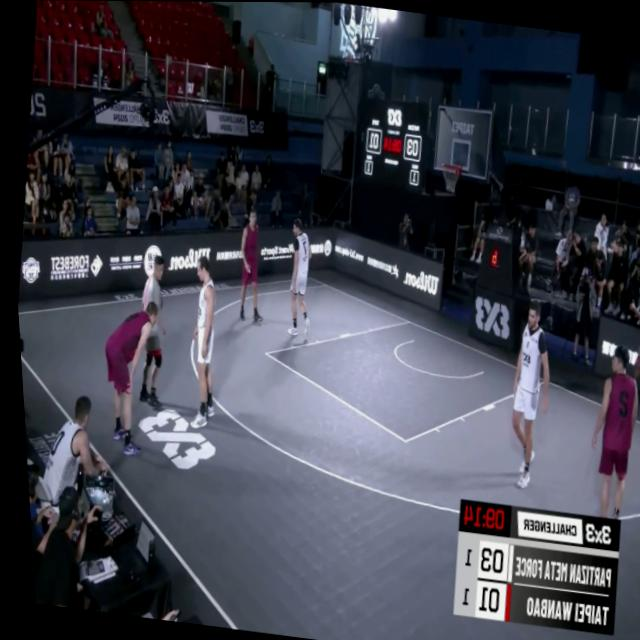ball: (151, 282, 164, 310)
hoop: (435, 157, 461, 200)
player: (492, 297, 560, 492), (85, 294, 160, 458), (573, 341, 640, 520), (175, 252, 228, 422), (277, 217, 319, 340), (228, 207, 270, 322)
